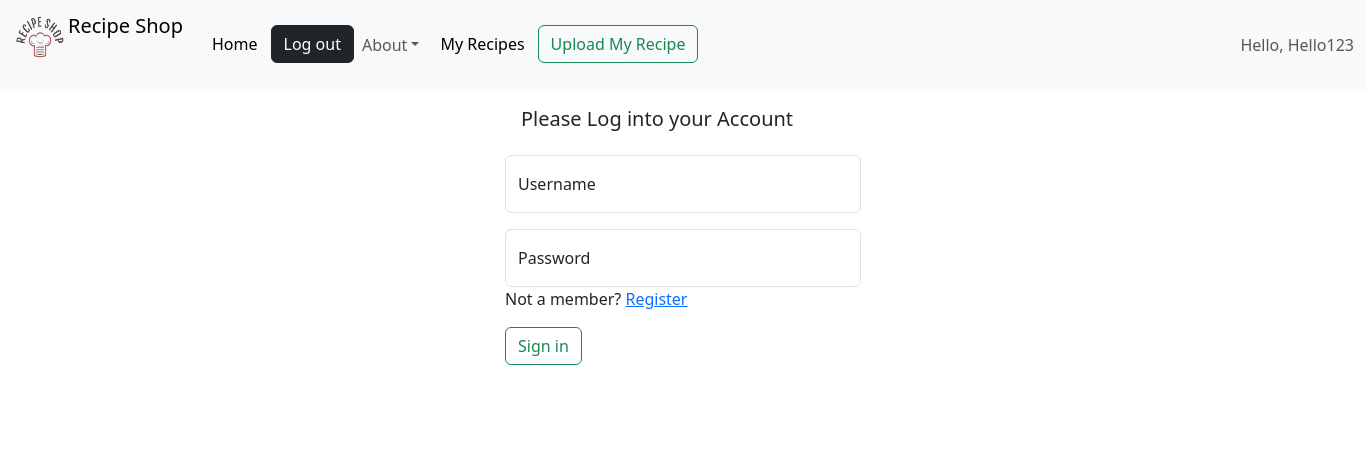
Scenario: Login page UI functionality › User cannot login with empty username & password.
Click the button "Sign in" at {"x": 543, "y": 346}, box top-left (505, 327), bottom-right (582, 365)
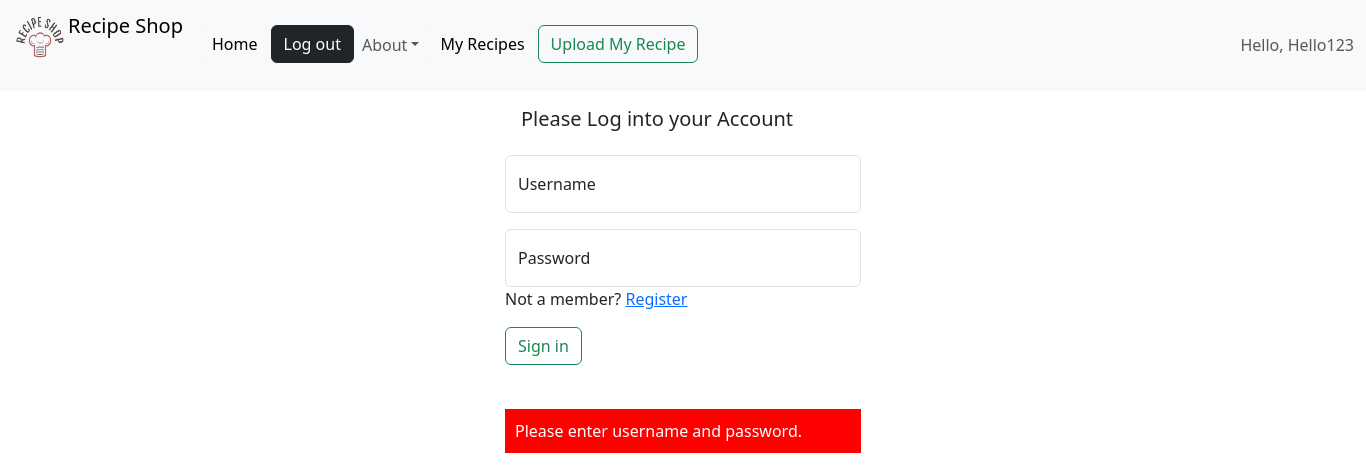
Expected: the text "Please enter username and password." is shown, top-left (505, 409), bottom-right (861, 453)
